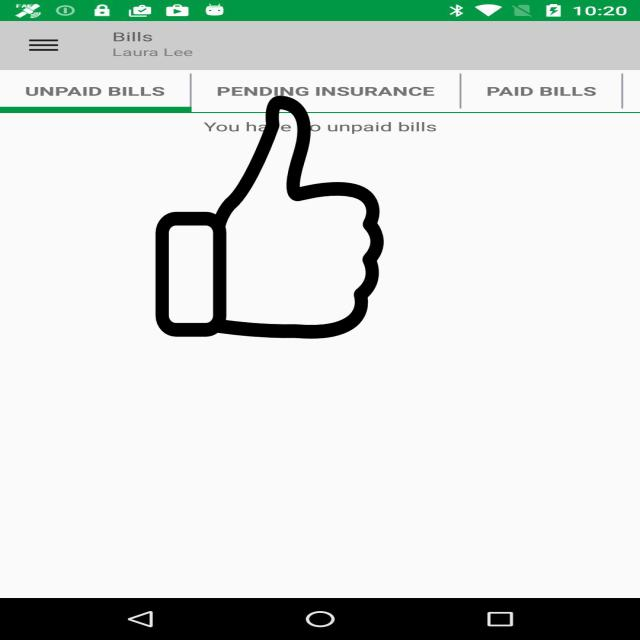privacy zuckering: (152, 95, 387, 338)
